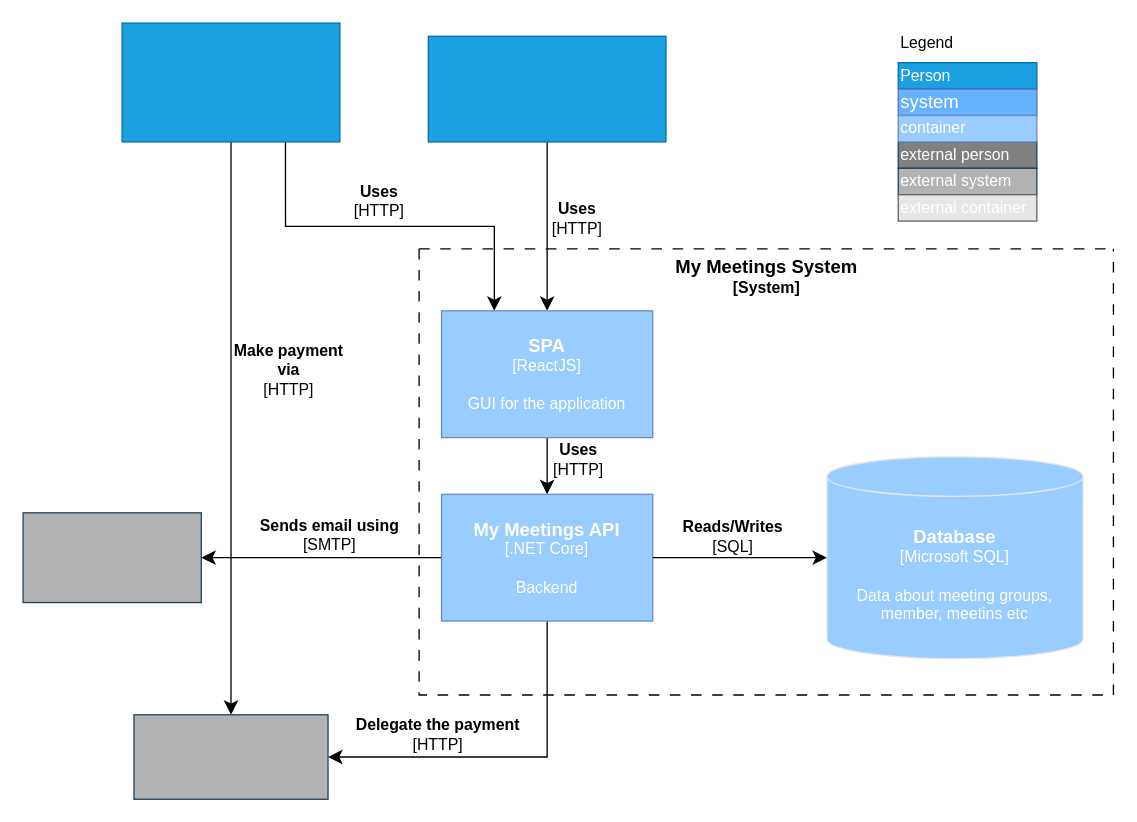
The diagram is 1137 pixels wide and 822 high, and some of its shapes have lost their labels. The shapes that lost their labels are listed below. From the top down, each one's centre as x and y in pixels, then its label:
At (230,82): "Member Organizer of meeting groups, meetings, member of group, meeting attendee".
At (546,88): "Administrator Administrator of the system".
At (111,557): "Email System 3rd party SMTP server".
At (230,756): "Payment Gateway 3rd party payment service".
